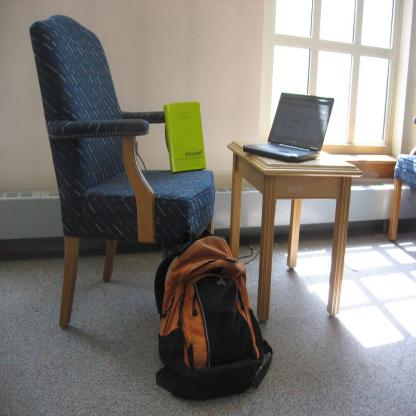board: (242, 91, 335, 161)
